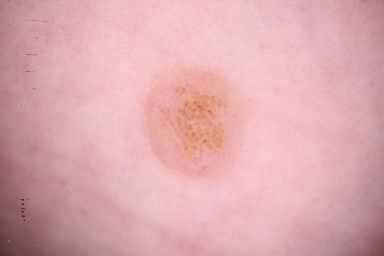nevus: (148, 73, 240, 179)
